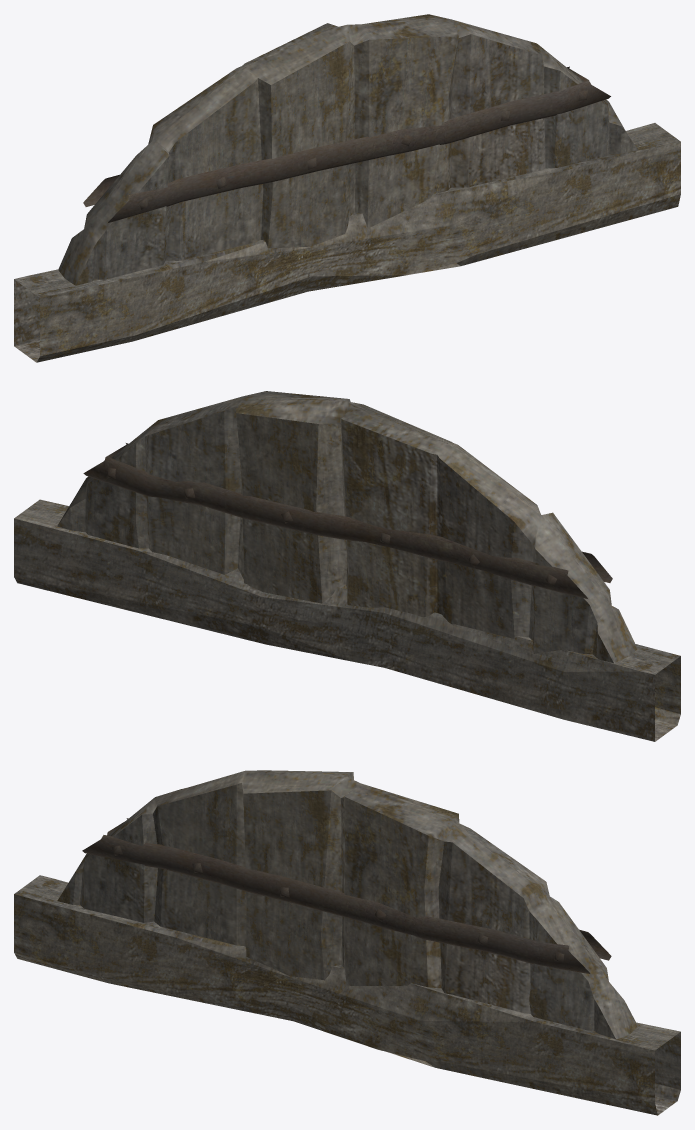
File: gate_beams_2U.fbx
3 renders of one model, top to bottom at view 1: azimuth 30°, elevation 25°; view 2: azimuth 150°, elevation 25°; view 3: azimuth 330°, elevation 25°, orthographic.
Visible parts, largest first — view 1: gate_beams_2U; view 2: gate_beams_2U; view 3: gate_beams_2U.
Part boxes in pixels (box(x1,y1,x2,y2)): gate_beams_2U: box(14, 14, 680, 362); gate_beams_2U: box(14, 391, 680, 741); gate_beams_2U: box(14, 770, 680, 1115).
Size of the model in its own units: 200 by 76.49 by 18.13.
